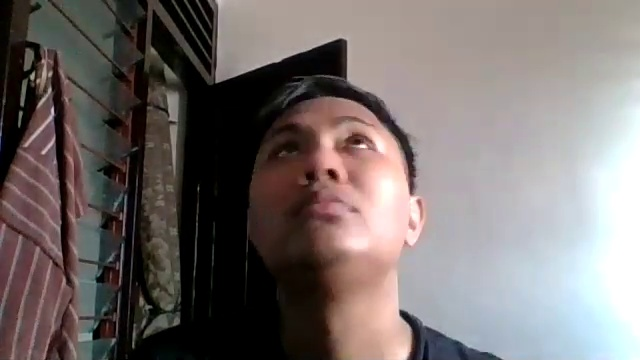Distracted: (227, 80, 434, 285)
